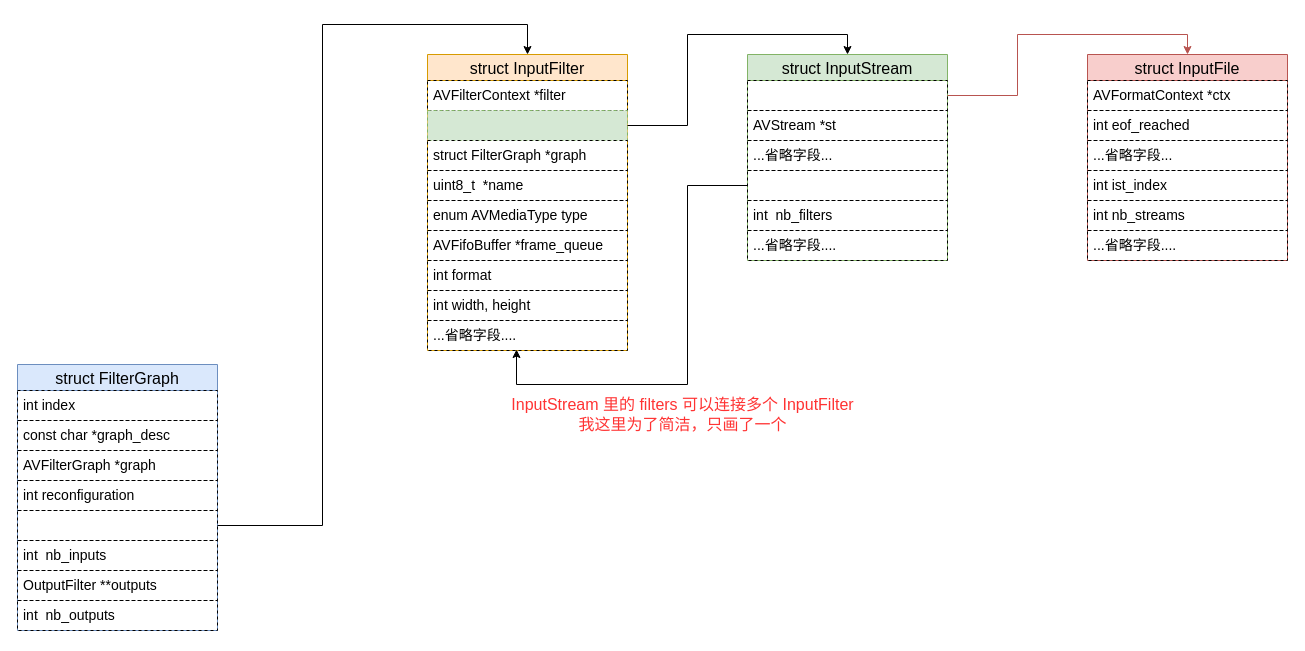
Some shapes in this 1305 by 651 pixel diagram are drawn without their labels. The shapes that lost their labels are listed below. From the top down, each one's centre as x and y in pixels, then its label:
At (847,95): "int file_index".
At (527,125): "struct InputStream *ist".
At (847,185): "InputFilter **filters".
At (117,525): "InputFilter **inputs".
